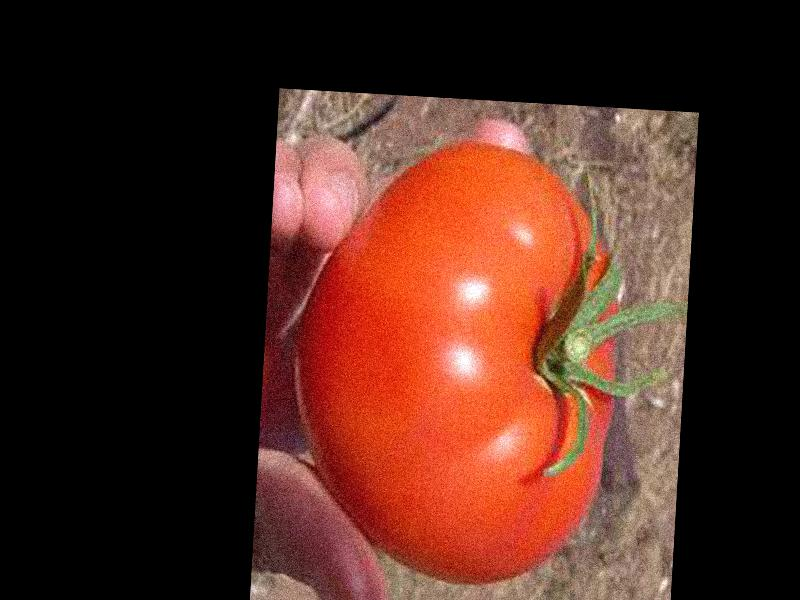Tomato: (286, 134, 628, 592)
